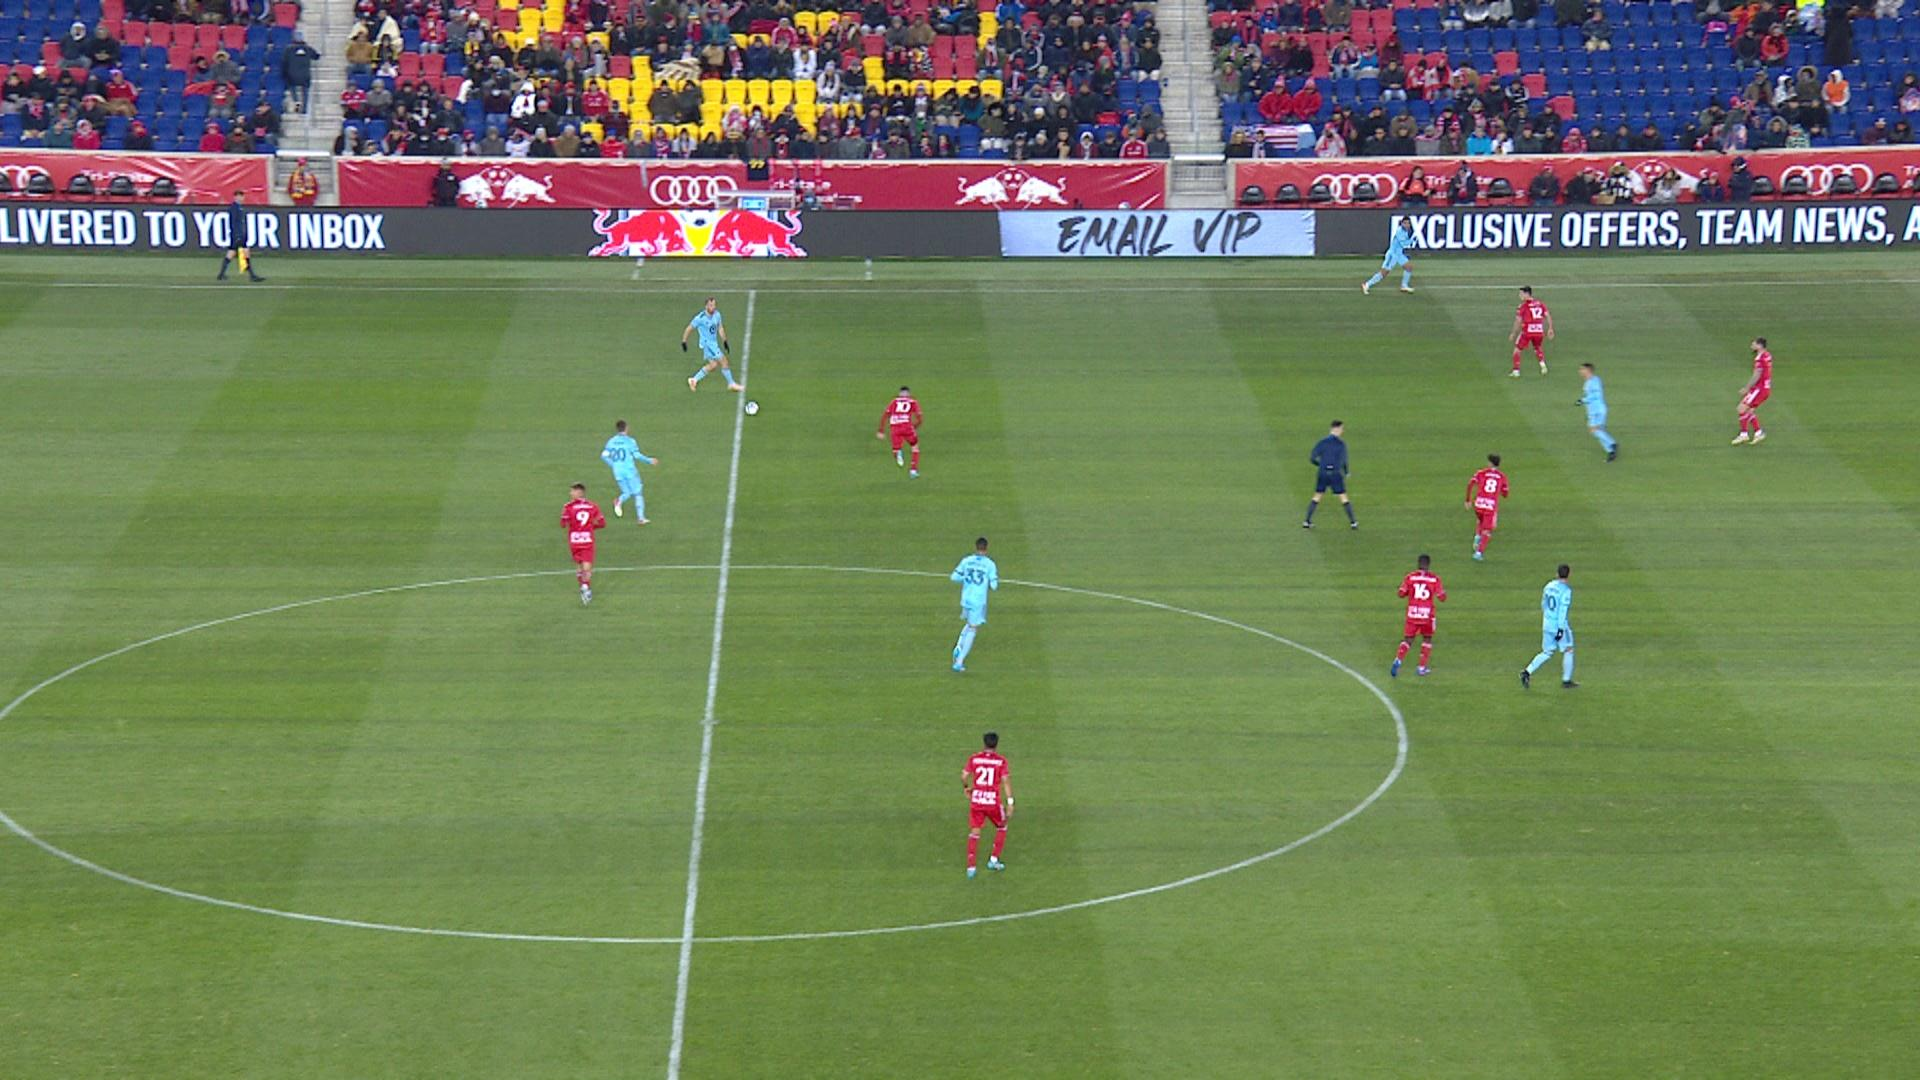football: (745, 400, 760, 416)
